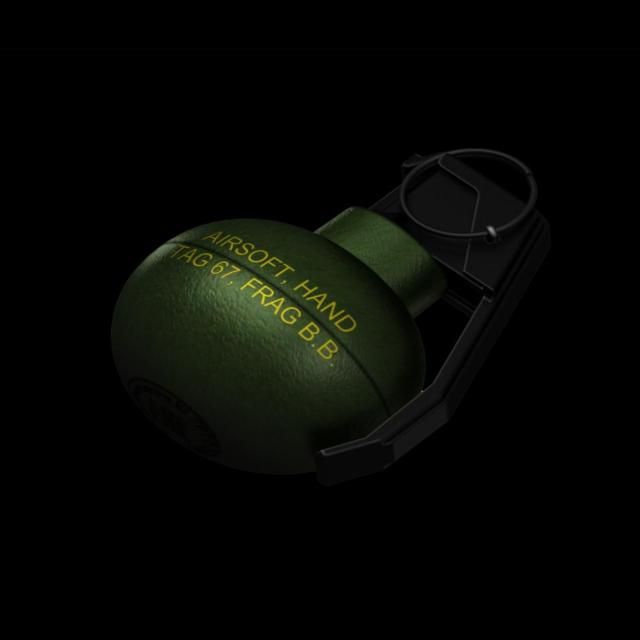grenade: (110, 152, 550, 491)
